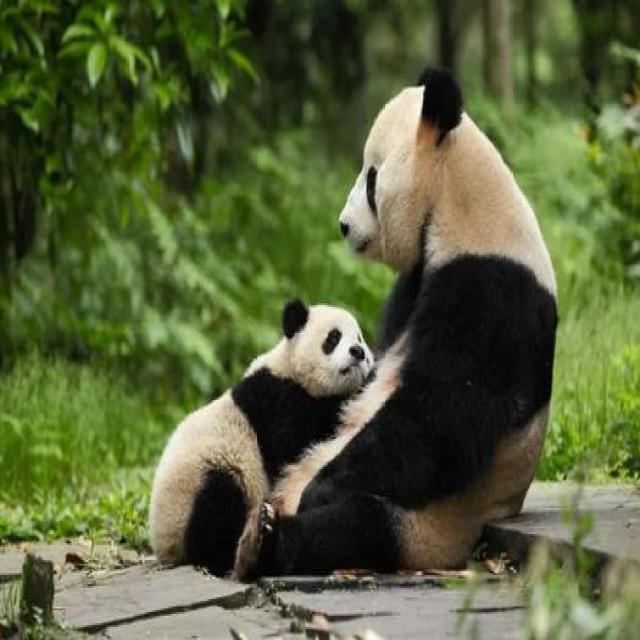panda: (150, 112, 585, 591)
